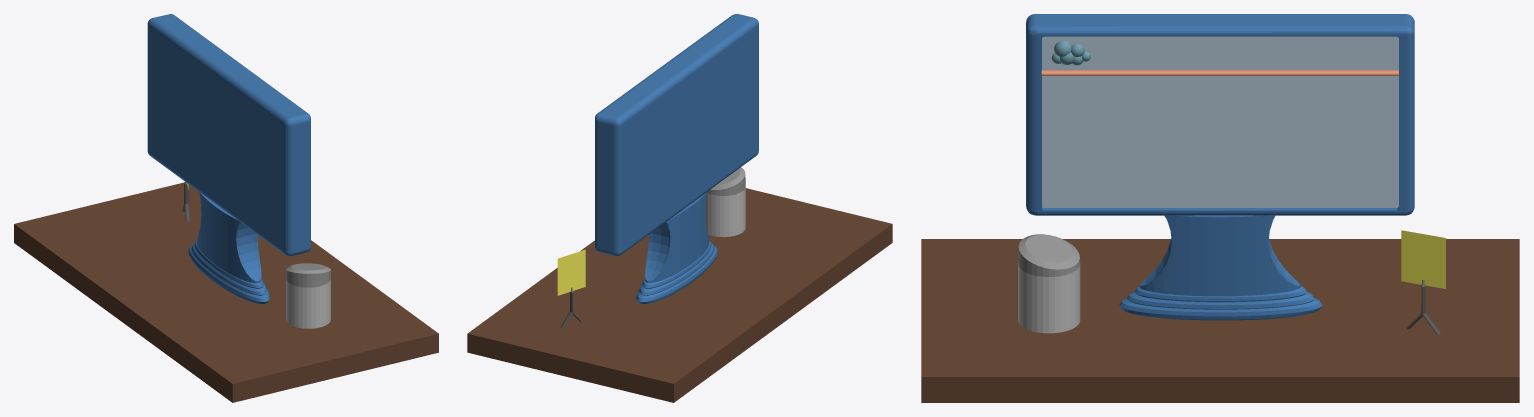
The model's file is room2.422f632c.glb.
The picture shows the model from 3 angles, left to right: view 1: azimuth 30°, elevation 25°; view 2: azimuth 150°, elevation 25°; view 3: azimuth 270°, elevation 25°; orthographic projection. The views are drawn at different scales.
Visible parts, largest first — view 1: Cube, 큐브.001, 실린더.006, 실린더, 실린더.001, Torus, Torus.001, Torus.002; view 2: Cube, 큐브.001, 실린더.006, 실린더, 큐브, Torus, 실린더.001, Torus.001, Torus.002; view 3: Cube, 큐브.007, 큐브.001, 실린더.006, 실린더, Torus, 큐브, 실린더.001, 실린더.007, Torus.001, Torus.002.
Boxes of the visible parts, left/top/right/bottom form: Cube: left=14, top=182, right=438, bottom=402; 큐브.001: left=147, top=14, right=310, bottom=256; 실린더.006: left=197, top=192, right=261, bottom=283; 실린더: left=286, top=280, right=330, bottom=328; 실린더.001: left=286, top=263, right=330, bottom=287; Torus: left=188, top=246, right=269, bottom=303; Torus.001: left=191, top=243, right=266, bottom=295; Torus.002: left=194, top=240, right=263, bottom=288; Cube: left=467, top=188, right=892, bottom=402; 큐브.001: left=595, top=14, right=758, bottom=256; 실린더.006: left=645, top=192, right=709, bottom=282; 실린더: left=705, top=188, right=745, bottom=237; 큐브: left=557, top=249, right=585, bottom=295; Torus: left=636, top=246, right=717, bottom=303; 실린더.001: left=707, top=167, right=745, bottom=195; Torus.001: left=639, top=243, right=714, bottom=295; Torus.002: left=642, top=241, right=711, bottom=288; Cube: left=921, top=239, right=1519, bottom=402; 큐브.007: left=1042, top=36, right=1398, bottom=207; 큐브.001: left=1026, top=14, right=1414, bottom=215; 실린더.006: left=1140, top=208, right=1300, bottom=296; 실린더: left=1018, top=264, right=1080, bottom=333; Torus: left=1119, top=298, right=1322, bottom=320; 큐브: left=1401, top=230, right=1445, bottom=288; 실린더.001: left=1018, top=234, right=1080, bottom=276; 실린더.007: left=1041, top=70, right=1398, bottom=75; Torus.001: left=1127, top=292, right=1314, bottom=309; Torus.002: left=1134, top=286, right=1306, bottom=302.
Size of the model in its own units: 15.44 by 16.52 by 28.34.
